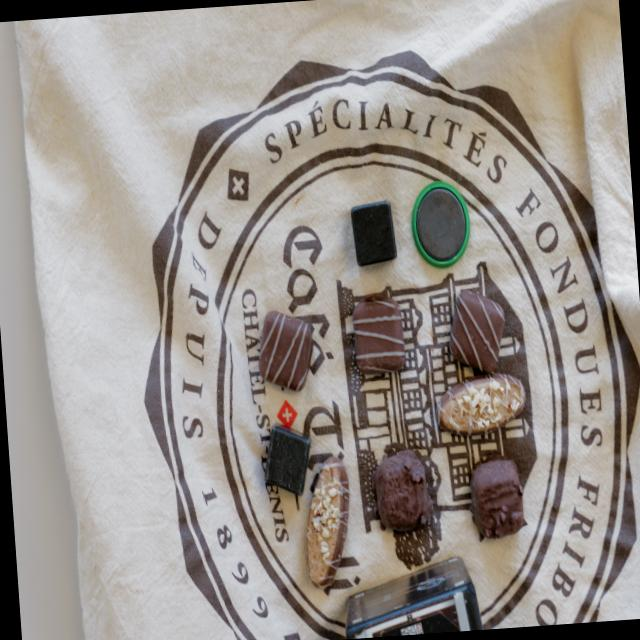Amandina: (298, 454, 354, 588), (432, 370, 526, 437)
Stracciatella: (446, 288, 508, 376), (254, 308, 313, 394), (350, 294, 406, 376)
Tentation_noir: (369, 447, 434, 534), (467, 456, 528, 541)
